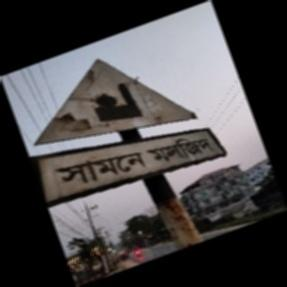Mosque in front: (32, 58, 227, 206)
